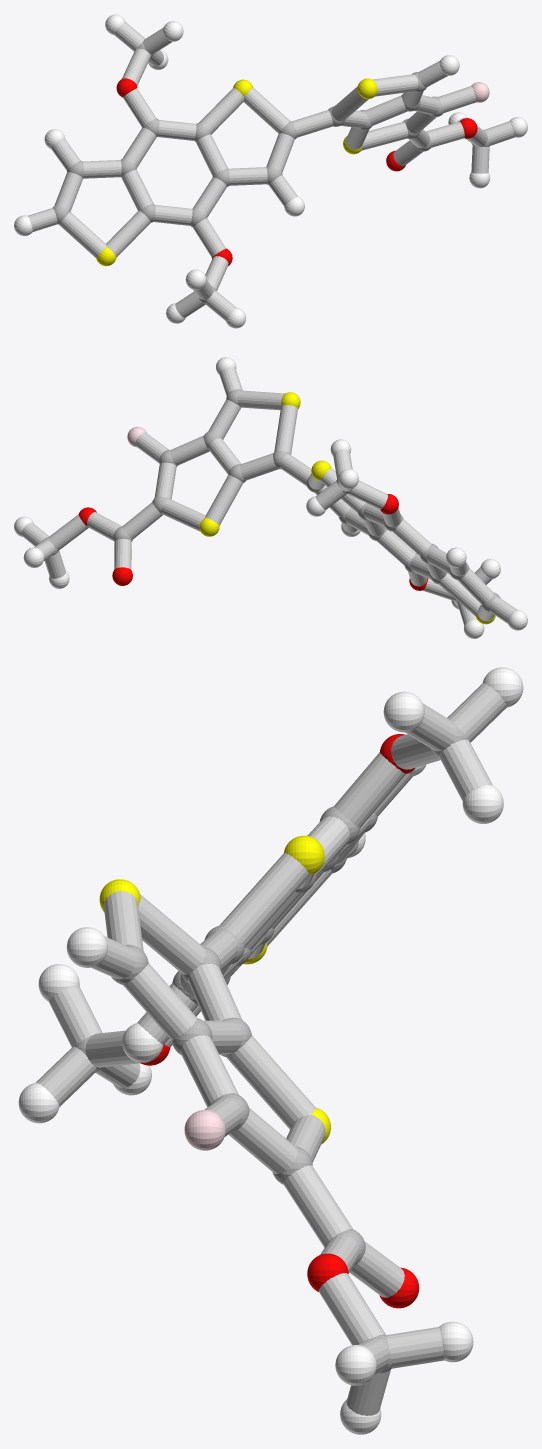
The model's file is color.glb.
3 views of the same model, one above another, from view 1: azimuth 30°, elevation 25°; view 2: azimuth 150°, elevation 25°; view 3: azimuth 270°, elevation 25° (orthographic). The views are drawn at different scales.
Parts seen in each view (by area): view 1: grp15205, grp8689, grp1, grp7241, grp13395; view 2: grp15205, grp8689, grp1, grp7241, grp13395; view 3: grp15205, grp8689, grp1, grp13395, grp7241, grp14843.
Boxes of the visible parts, x1,y1,x2,y2 form: grp15205: [27, 22, 514, 320]; grp8689: [14, 14, 527, 328]; grp1: [52, 41, 489, 303]; grp7241: [96, 78, 377, 266]; grp13395: [116, 78, 477, 266]; grp15205: [21, 367, 517, 625]; grp8689: [14, 357, 527, 638]; grp1: [42, 389, 500, 612]; grp7241: [199, 392, 495, 624]; grp13395: [78, 494, 428, 590]; grp15205: [36, 683, 506, 1415]; grp8689: [18, 667, 523, 1434]; grp1: [73, 725, 468, 1372]; grp13395: [139, 734, 419, 1308]; grp7241: [99, 835, 330, 1144]; grp14843: [184, 1110, 225, 1150].
Size of the model in its own units: 17.06 by 7.43 by 7.33.
